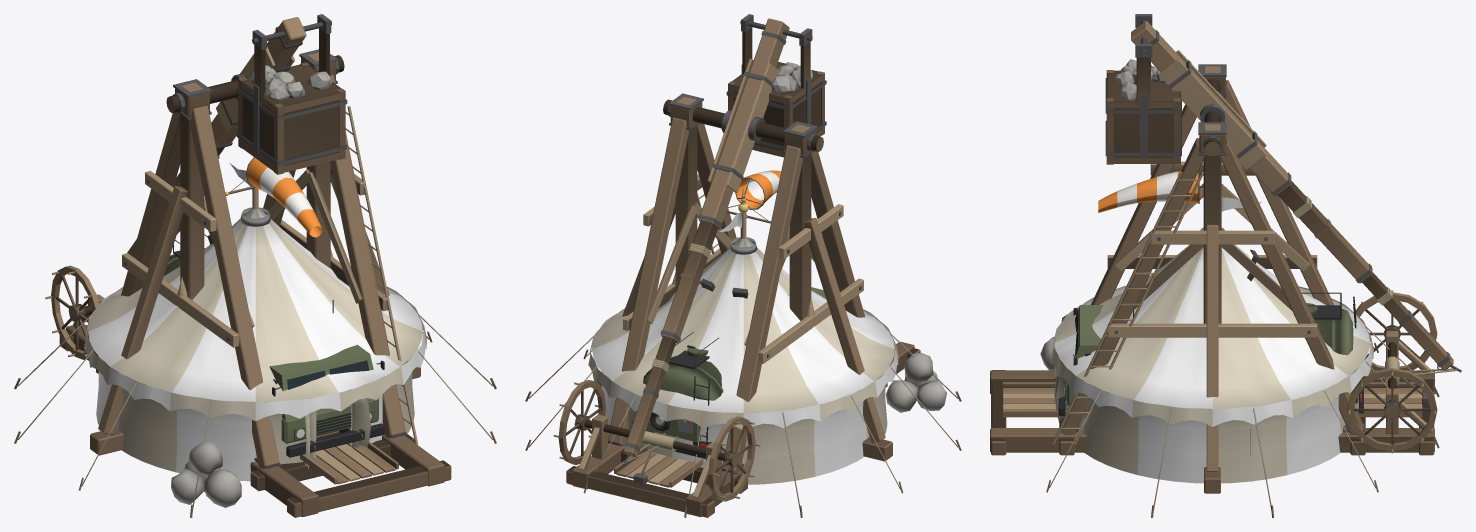
File: props.glb
3 views of the same model, side by side, from view 1: azimuth 30°, elevation 25°; view 2: azimuth 150°, elevation 25°; view 3: azimuth 270°, elevation 25° (orthographic). The views are drawn at different scales.
Parts seen in each view (by area): view 1: Tent_B__Cloth, Trebuchet__Wood, Treb_CW__Wood, Pad_Truck__Paint, Trebuchet__Stone, Treb_Arm__Wood, Windsock_Sock__Cloth, Treb_CW__Iron, Treb_CW__Stone, Trebuchet__Iron, Tent_B__Rope, Treb_Arm__Iron; view 2: Trebuchet__Wood, Tent_B__Cloth, Treb_Arm__Wood, Pad_Truck__Paint, Treb_CW__Wood, Trebuchet__Stone, Treb_Arm__Iron, Trebuchet__Iron, Treb_CW__Iron, Tent_B__Rope, Windsock_Sock__Cloth, Treb_CW__Stone (+1 smaller); view 3: Tent_B__Cloth, Trebuchet__Wood, Treb_Arm__Wood, Treb_CW__Wood, Pad_Truck__Paint, Treb_CW__Iron, Windsock_Sock__Cloth, Treb_Arm__Iron, Trebuchet__Iron, Tent_B__Rope, Treb_CW__Stone.
Part boxes in pixels (left/top/right/bottom): Tent_B__Cloth: left=84, top=163, right=426, bottom=481; Trebuchet__Wood: left=45, top=52, right=451, bottom=517; Treb_CW__Wood: left=238, top=15, right=345, bottom=174; Pad_Truck__Paint: left=164, top=234, right=384, bottom=457; Trebuchet__Stone: left=171, top=441, right=241, bottom=507; Treb_Arm__Wood: left=127, top=17, right=306, bottom=255; Windsock_Sock__Cloth: left=246, top=157, right=322, bottom=237; Treb_CW__Iron: left=236, top=14, right=347, bottom=166; Treb_CW__Stone: left=250, top=65, right=332, bottom=100; Trebuchet__Iron: left=68, top=49, right=406, bottom=468; Tent_B__Rope: left=18, top=313, right=492, bottom=509; Treb_Arm__Iron: left=216, top=21, right=331, bottom=148; Trebuchet__Wood: left=553, top=96, right=920, bottom=517; Tent_B__Cloth: left=588, top=212, right=898, bottom=484; Treb_Arm__Wood: left=623, top=18, right=789, bottom=457; Pad_Truck__Paint: left=632, top=287, right=826, bottom=458; Treb_CW__Wood: left=728, top=19, right=824, bottom=157; Trebuchet__Stone: left=886, top=353, right=946, bottom=412; Treb_Arm__Iron: left=623, top=21, right=812, bottom=465; Trebuchet__Iron: left=574, top=93, right=861, bottom=484; Treb_CW__Iron: left=726, top=14, right=826, bottom=150; Tent_B__Rope: left=528, top=333, right=958, bottom=509; Windsock_Sock__Cloth: left=736, top=170, right=781, bottom=208; Treb_CW__Stone: left=771, top=62, right=812, bottom=93; Tent_B__Cloth: left=1051, top=197, right=1373, bottom=483; Trebuchet__Wood: left=990, top=66, right=1437, bottom=493; Treb_Arm__Wood: left=1131, top=21, right=1453, bottom=370; Treb_CW__Wood: left=1106, top=14, right=1180, bottom=164; Pad_Truck__Paint: left=1054, top=292, right=1365, bottom=416; Treb_CW__Iron: left=1105, top=14, right=1181, bottom=157; Windsock_Sock__Cloth: left=1098, top=170, right=1198, bottom=212; Treb_Arm__Iron: left=1141, top=19, right=1461, bottom=372; Trebuchet__Iron: left=1060, top=64, right=1429, bottom=432; Tent_B__Rope: left=1049, top=325, right=1435, bottom=510; Treb_CW__Stone: left=1116, top=59, right=1165, bottom=100.
Size of the model in its own units: 10.61 by 10.7 by 11.03.
